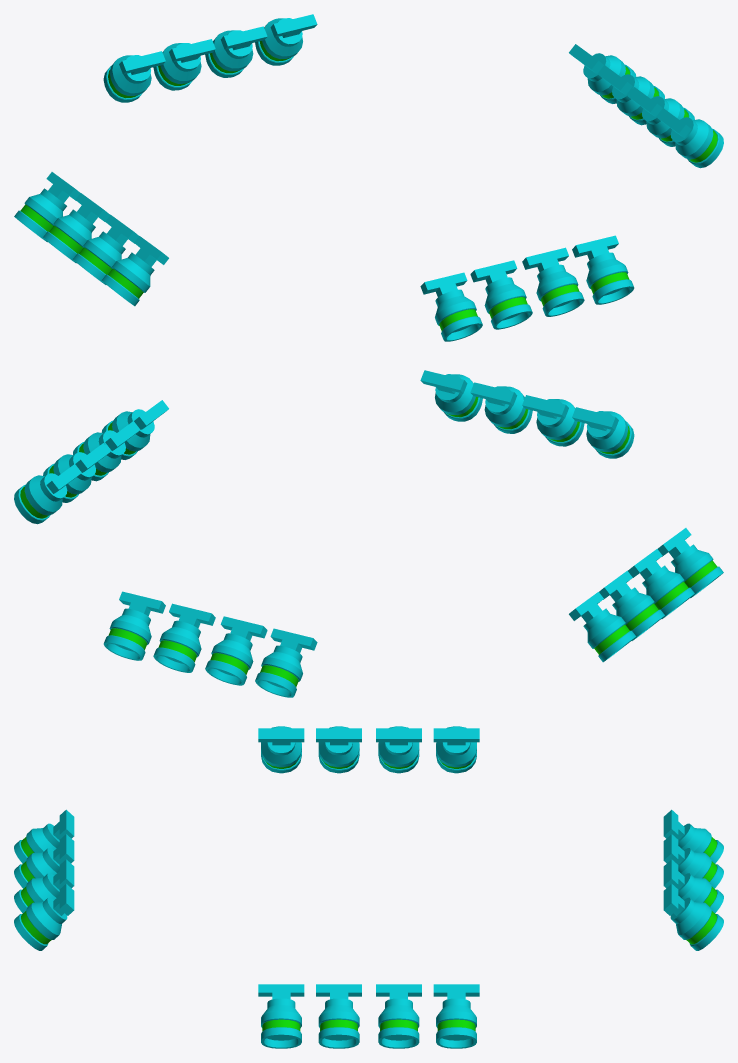
Rendered from Engines.fbx.
3 views of the same model, one above another, from view 1: azimuth 30°, elevation 25°; view 2: azimuth 150°, elevation 25°; view 3: azimuth 270°, elevation 25° (orthographic).
Parts seen in each view (by area): view 1: Cube.002; view 2: Cube.002; view 3: Cube.002.
Part boxes in pixels (<box>): Cube.002: <box>14,14,723,341</box>; Cube.002: <box>14,370,723,697</box>; Cube.002: <box>14,726,723,1048</box>.
Size of the model in its own units: 480 by 40.83 by 480.
